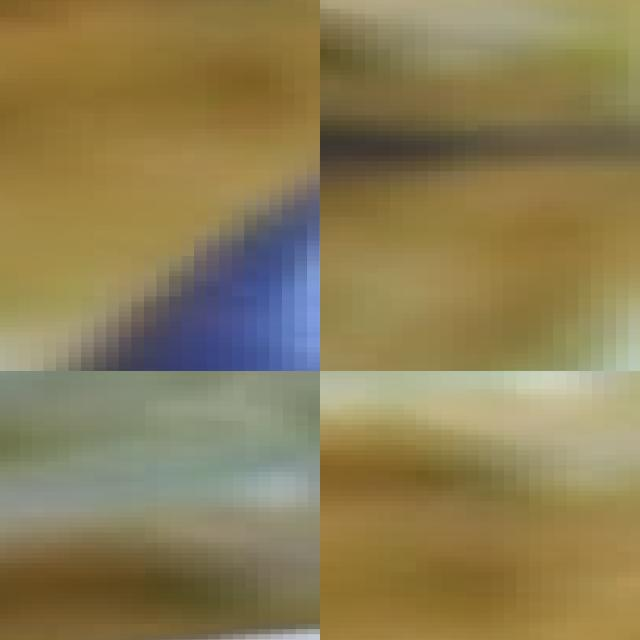fish: (0, 0, 320, 371), (0, 568, 320, 640)
